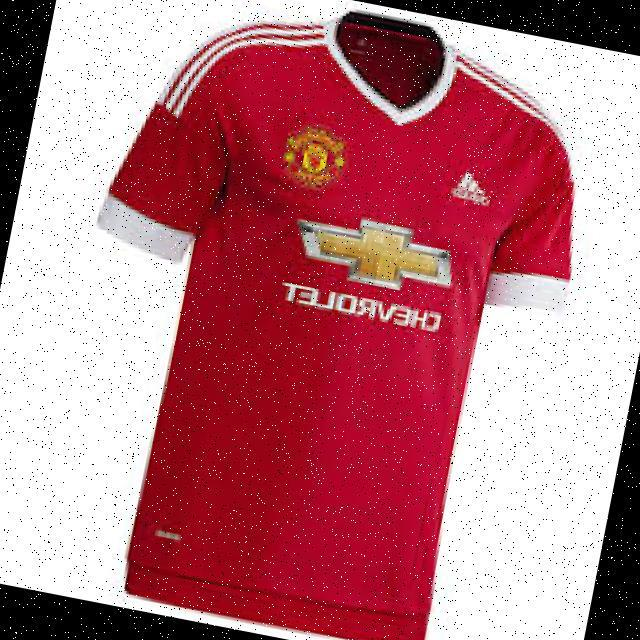Adidas: (449, 167, 497, 211)
